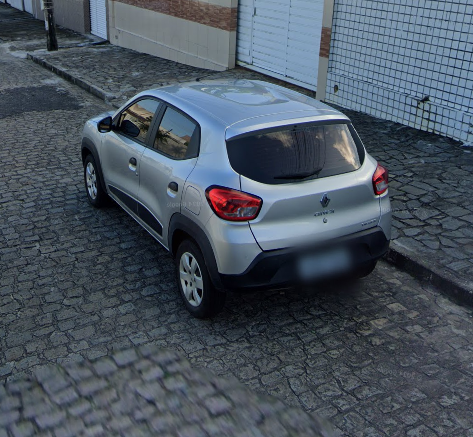car: (79, 75, 393, 320)
